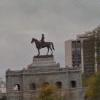Statue: (21, 27, 59, 60)
